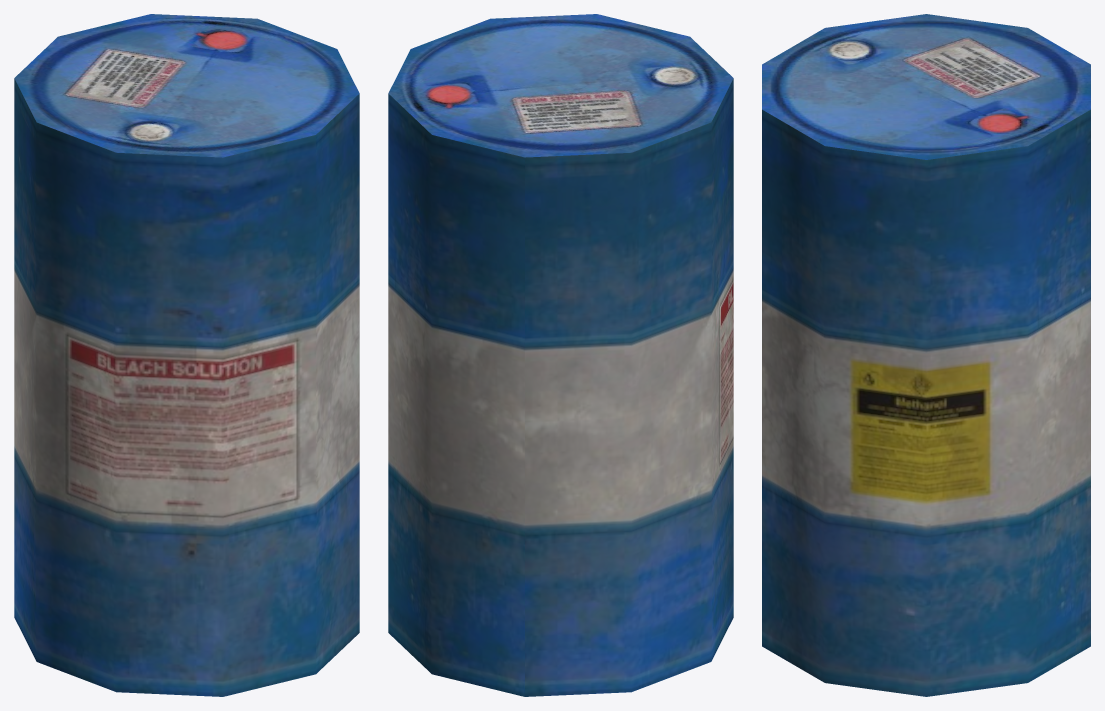
The model's file is Barrel_v3_single (1).glb.
3 renders of one model, left to right at view 1: azimuth 30°, elevation 25°; view 2: azimuth 150°, elevation 25°; view 3: azimuth 270°, elevation 25°, orthographic.
Parts seen in each view (by area): view 1: Barrel_v3_single (1); view 2: Barrel_v3_single (1); view 3: Barrel_v3_single (1).
Boxes of the visible parts, x1,y1,x2,y2 form: Barrel_v3_single (1): (14, 14, 359, 696); Barrel_v3_single (1): (388, 14, 733, 696); Barrel_v3_single (1): (762, 14, 1090, 696).
Bounding box in the file's own units: 0.5569 × 0.9547 × 0.5297.
1 material, 1 textured.
